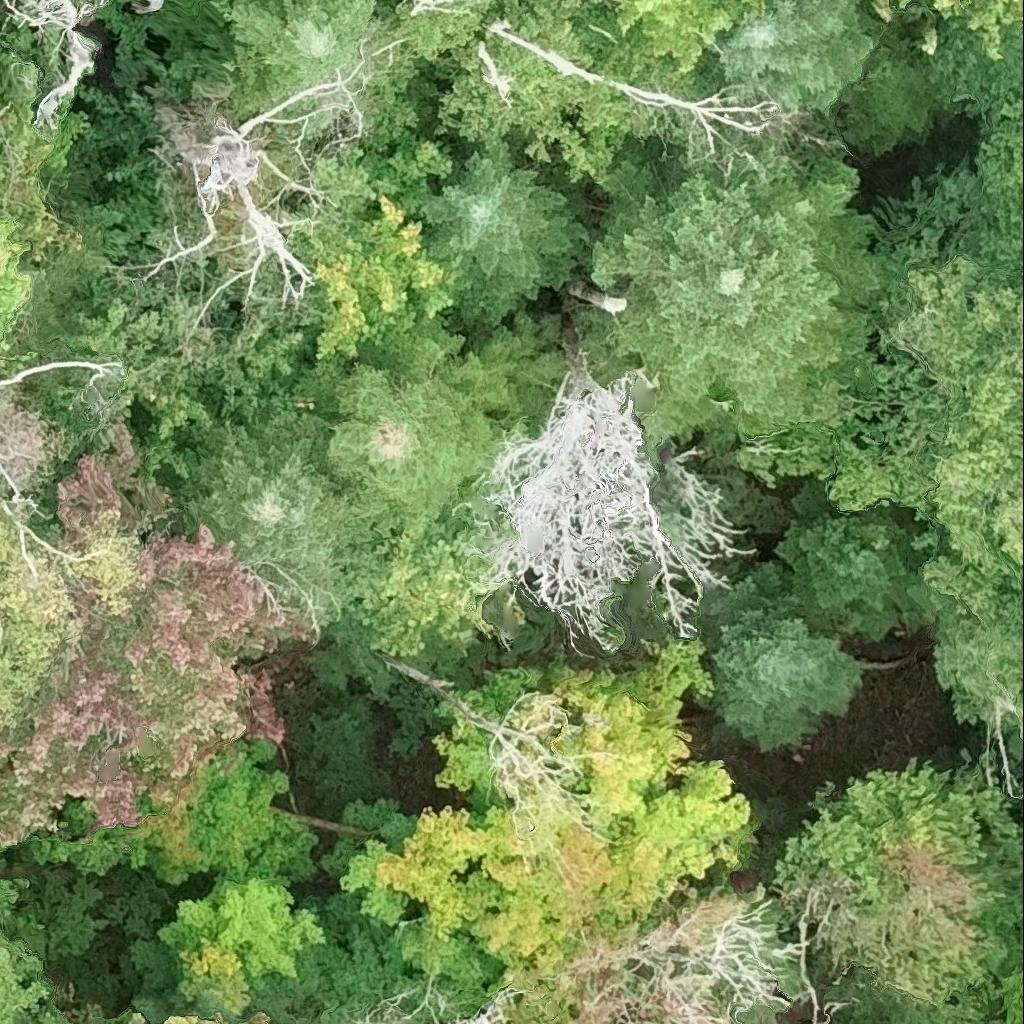crown: (327, 642, 752, 1020), (0, 433, 297, 845), (466, 340, 759, 653), (596, 163, 880, 438), (871, 103, 1023, 600), (146, 38, 407, 306), (776, 760, 1023, 1023), (298, 335, 521, 535), (181, 413, 387, 614), (33, 738, 316, 882), (297, 137, 464, 366), (556, 879, 811, 1023), (0, 498, 142, 716), (421, 144, 588, 324), (77, 300, 233, 479), (712, 566, 861, 750), (163, 869, 322, 1013), (782, 484, 917, 638), (0, 100, 77, 354), (724, 0, 877, 115), (209, 0, 374, 101), (3, 0, 110, 142), (191, 315, 313, 433), (938, 570, 1023, 728), (613, 0, 769, 72), (934, 0, 1023, 60), (0, 877, 43, 982), (0, 953, 55, 1023), (504, 972, 579, 1023), (997, 917, 1023, 1023), (442, 988, 511, 1023), (309, 1003, 362, 1023), (84, 1008, 154, 1023), (868, 0, 912, 21), (165, 1016, 227, 1023), (241, 1014, 267, 1023), (122, 1016, 147, 1023)
